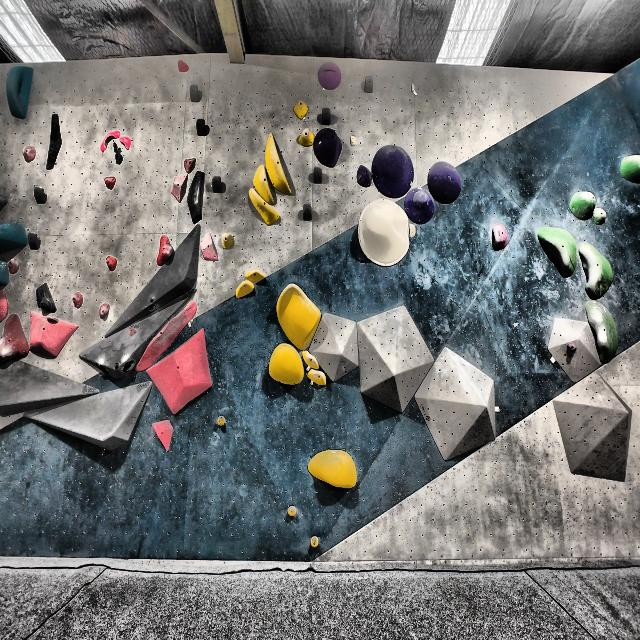Hold: (149, 330, 218, 411), (132, 296, 198, 378), (356, 198, 414, 266), (276, 280, 321, 346), (300, 447, 362, 491), (371, 139, 414, 198), (534, 223, 576, 280), (26, 315, 80, 359), (578, 233, 612, 300), (585, 300, 621, 363), (265, 131, 295, 197), (6, 63, 37, 123), (268, 343, 304, 388), (428, 157, 461, 206), (312, 124, 342, 169), (400, 186, 436, 223), (248, 190, 282, 228), (0, 211, 29, 254), (148, 414, 178, 454), (249, 164, 277, 201), (47, 112, 63, 172), (569, 188, 596, 222), (187, 174, 205, 222), (33, 286, 60, 314), (620, 152, 640, 188), (317, 61, 342, 89), (490, 222, 510, 254), (200, 230, 218, 264), (99, 128, 120, 154), (172, 170, 188, 203), (158, 234, 174, 267), (293, 94, 311, 121), (355, 162, 372, 188), (243, 268, 267, 284), (236, 280, 255, 300), (298, 126, 316, 146), (110, 140, 126, 162), (0, 288, 11, 319), (306, 369, 326, 386), (304, 351, 320, 370), (0, 258, 10, 288), (176, 57, 193, 74), (181, 158, 199, 173), (287, 503, 301, 522), (592, 206, 604, 228), (224, 231, 236, 252), (105, 174, 117, 195), (72, 287, 84, 308), (106, 250, 116, 274), (24, 143, 36, 163), (8, 260, 22, 276), (119, 133, 132, 150), (99, 303, 111, 321), (213, 415, 227, 428), (567, 340, 579, 355), (312, 532, 322, 548)
